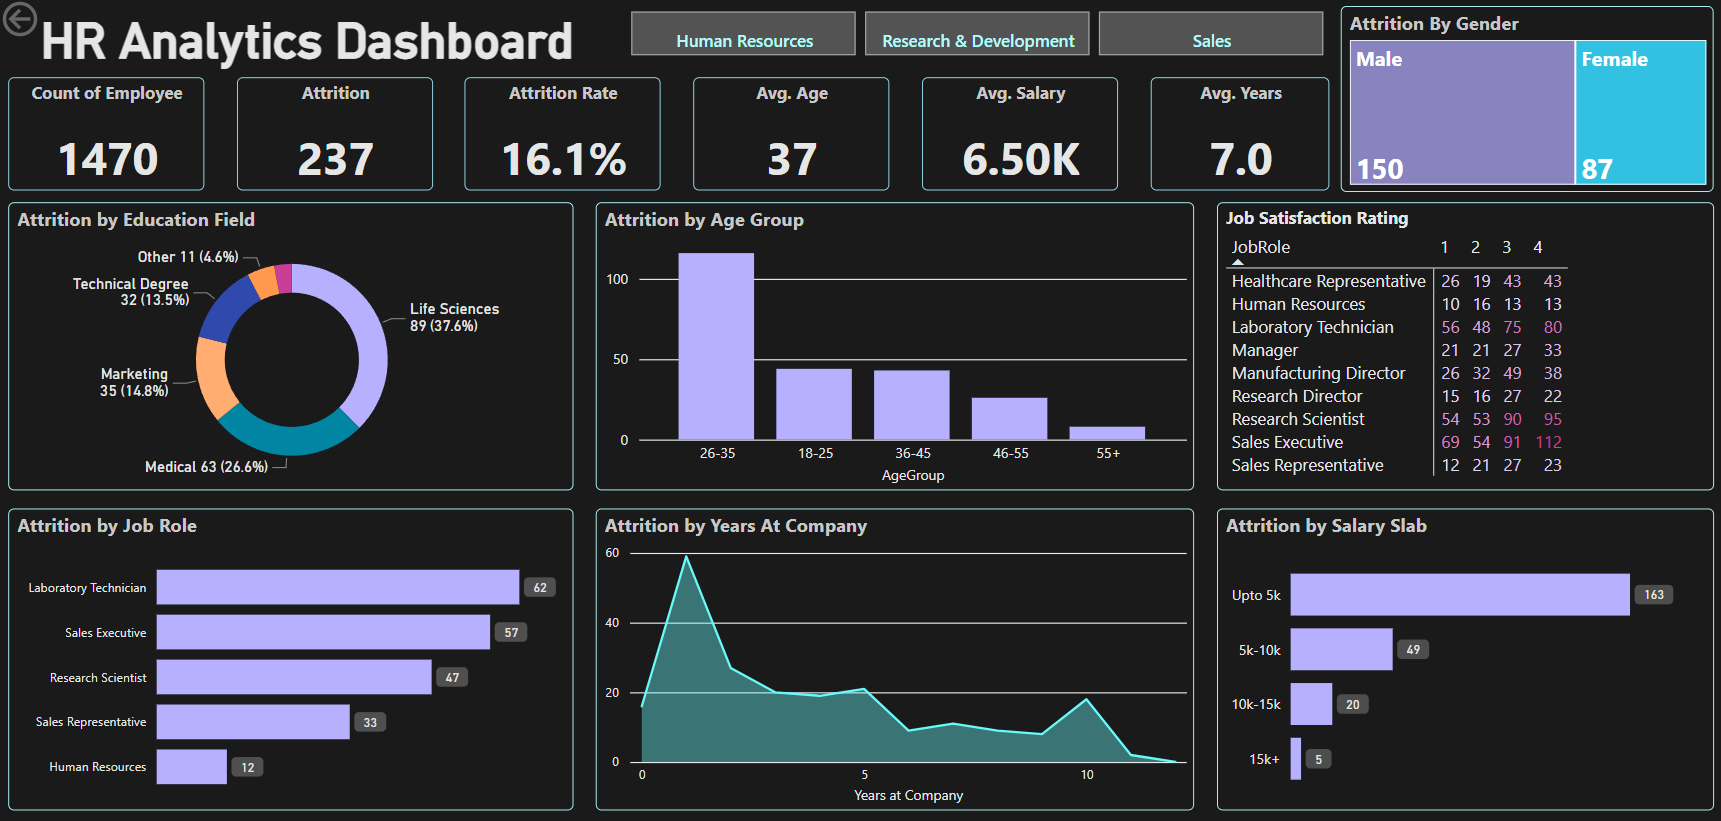

The dashboard page shown, as its layout file describes it:
{"tool":"powerbi","page":{"name":"Page 1","canvas":[1500,720],"ordinal":0},"visuals":[{"type":"cardVisual","title":"Count of Employee","fields":{"Data":["CountNonNull(HR_Analytics.EmpID)"]},"box":[9.6,71,170,98.7],"z":0},{"type":"cardVisual","title":"Attrition","fields":{"Data":["Sum(HR_Analytics.AttritionCount)"]},"box":[208.1,71,170,98.7],"z":1000},{"type":"cardVisual","title":"Attrition Rate","fields":{"Data":["HR_Analytics.AttritionRate"]},"box":[406.6,71,170,98.7],"z":2000},{"type":"cardVisual","title":"Avg. Age ","fields":{"Data":["Avg(HR_Analytics.Age)"]},"box":[605.2,71,170,98.7],"z":3000},{"type":"cardVisual","title":"Avg. Salary ","fields":{"Data":["Avg(HR_Analytics.MonthlyIncome)"]},"box":[803.7,71,170,98.7],"z":4000},{"type":"cardVisual","title":"Avg. Years","fields":{"Data":["Avg(HR_Analytics.YearsAtCompany)"]},"box":[1002.2,71,155.2,98.7],"z":5000},{"type":"textbox","box":[9.6,8.4,519.7,62.6],"z":6000},{"type":"donutChart","title":"Attrition by Education Field","fields":{"Category":["HR_Analytics.EducationField"],"Y":["Sum(HR_Analytics.AttritionCount)"]},"box":[9.6,179.3,490.9,250.2],"z":7000},{"type":"columnChart","title":"Attrition by Age Group","fields":{"Category":["HR_Analytics.AgeGroup"],"Y":["Sum(HR_Analytics.AttritionCount)"]},"box":[520.3,179.3,519.7,250.2],"z":8000},{"type":"pivotTable","title":"Job Satisfaction Rating","fields":{"Rows":["HR_Analytics.JobRole"],"Columns":["HR_Analytics.JobSatisfaction"],"Values":["CountNonNull(HR_Analytics.EmpID)"]},"box":[1059.9,179.3,431.9,250.2],"z":9000},{"type":"barChart","title":"Attrition by Salary Slab","fields":{"Category":["HR_Analytics.SalarySlab"],"Y":["Sum(HR_Analytics.AttritionCount)"]},"box":[1059.9,445.1,431.9,262.3],"z":10000},{"type":"barChart","title":"Attrition by Job Role","fields":{"Category":["HR_Analytics.JobRole"],"Y":["Sum(HR_Analytics.AttritionCount)"]},"box":[9.6,445.1,490.9,262.3],"z":11000},{"type":"areaChart","title":"Attrition by Years At Company","fields":{"Category":["HR_Analytics.YearsAtCompany"],"Y":["Sum(HR_Analytics.AttritionCount)"]},"box":[520.3,445.1,519.7,262.3],"z":12000},{"type":"treemap","title":"Attrition By Gender","fields":{"Group":["HR_Analytics.Gender"],"Values":["Sum(HR_Analytics.AttritionCount)"]},"box":[1168.2,8.4,323.6,161.2],"z":13000},{"type":"advancedSlicerVisual","fields":{"Values":["HR_Analytics.Department"]},"box":[546.2,8.4,611.2,48.1],"z":14000},{"type":"actionButton","box":[0,0,100,40],"z":15000}]}

Visuals, with their boxes in screenshot pixels (x1, y1, x2, y2), scaled from the page's 1500x720 canvas onto the 1721x821 screenshot:
"Count of Employee" cardVisual: 11:81:206:194
"Attrition" cardVisual: 239:81:434:194
"Attrition Rate" cardVisual: 467:81:662:194
"Avg. Age " cardVisual: 694:81:889:194
"Avg. Salary " cardVisual: 922:81:1117:194
"Avg. Years" cardVisual: 1150:81:1328:194
textbox: 11:10:607:81
"Attrition by Education Field" donutChart: 11:204:574:490
"Attrition by Age Group" columnChart: 597:204:1193:490
"Job Satisfaction Rating" pivotTable: 1216:204:1712:490
"Attrition by Salary Slab" barChart: 1216:508:1712:807
"Attrition by Job Role" barChart: 11:508:574:807
"Attrition by Years At Company" areaChart: 597:508:1193:807
"Attrition By Gender" treemap: 1340:10:1712:193
advancedSlicerVisual - HR_Analytics.Department: 627:10:1328:64
actionButton: 0:0:115:46
